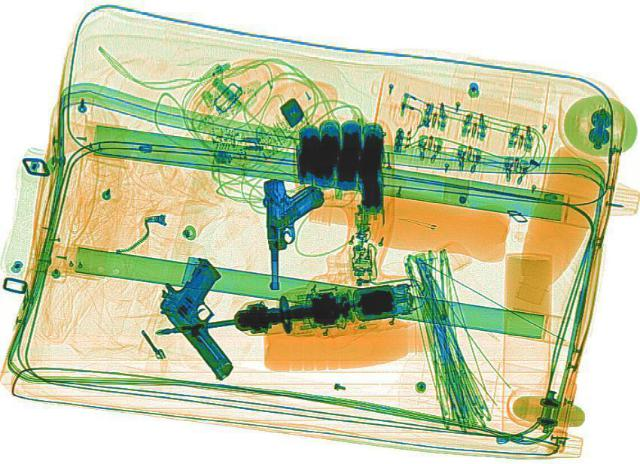Gun: (134, 253, 286, 380), (258, 176, 328, 290)
